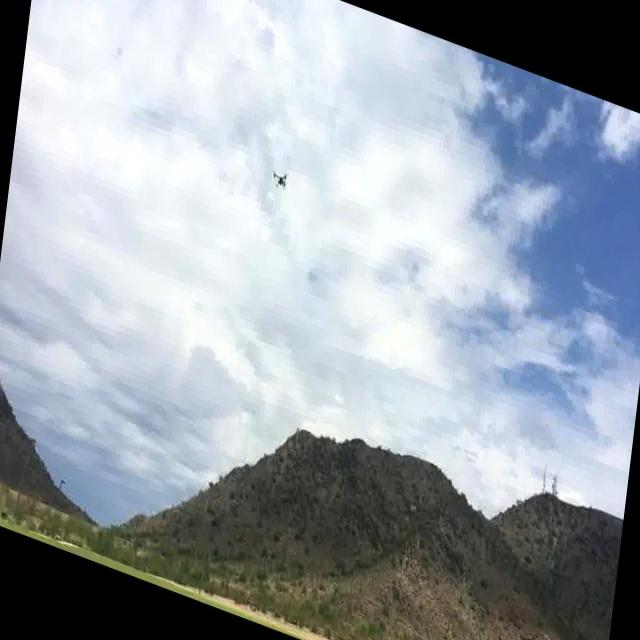drone: (269, 168, 291, 195)
